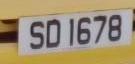1: (64, 15, 77, 52)
6: (75, 13, 94, 50)
7: (92, 13, 109, 47)
8: (107, 12, 124, 46)
D: (44, 17, 64, 52)
S: (27, 17, 47, 56)
